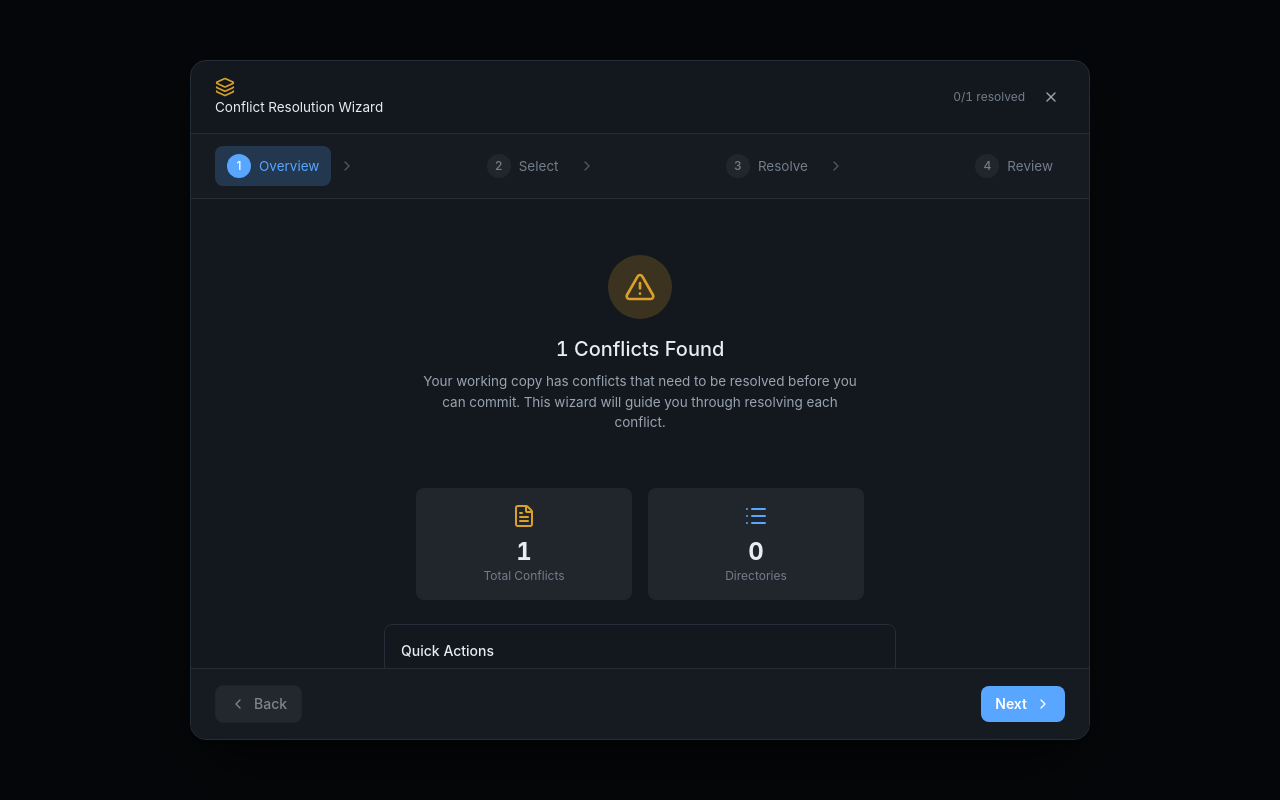
Test: conflict resolution workflows › opens conflicts detected from update or merge output in the wizard and resolves them
What coordinates should you click on to do the following:
click the text "resolve"
I would click on:
 (783, 166)
Its box is [758,156,808,176].
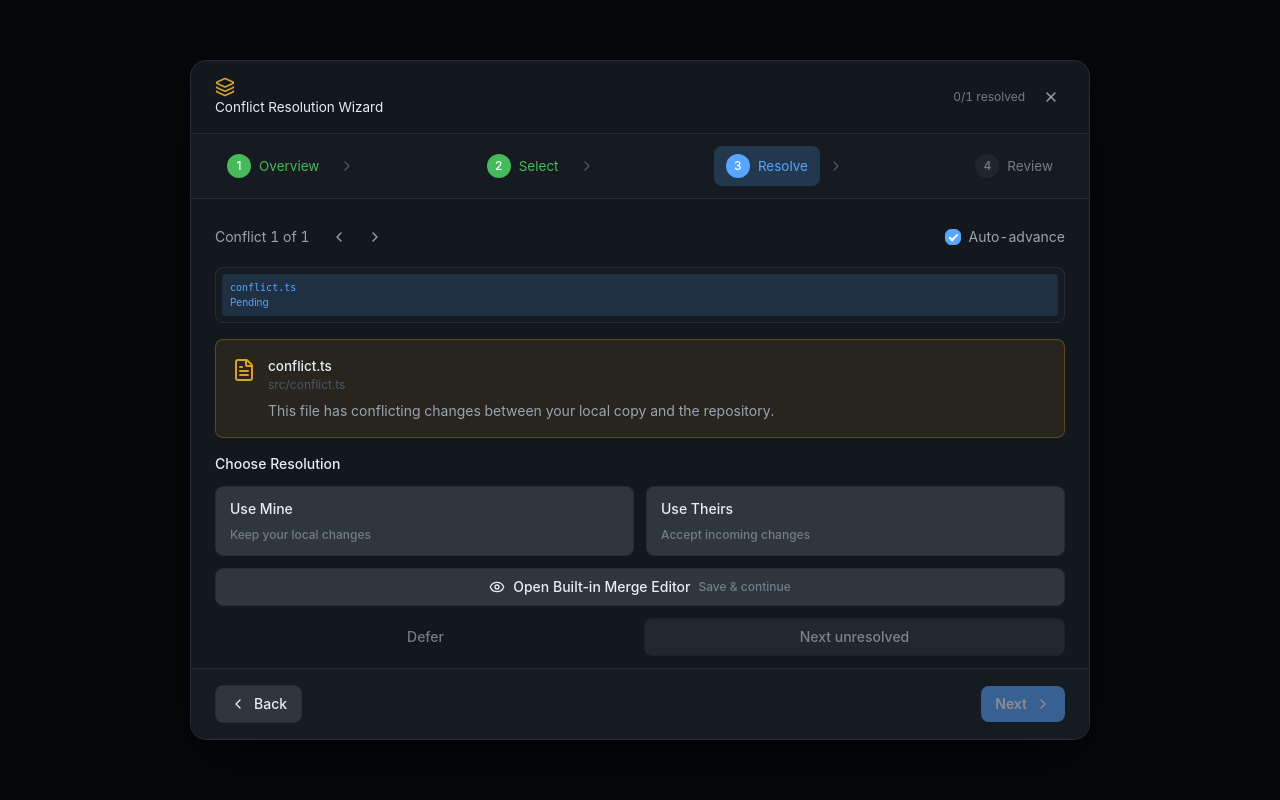
What coordinates should you click on to do the following:
click the button "Use Mine Keep your local changes"
I would click on:
 (261, 508)
Its box is [215,486,634,556].
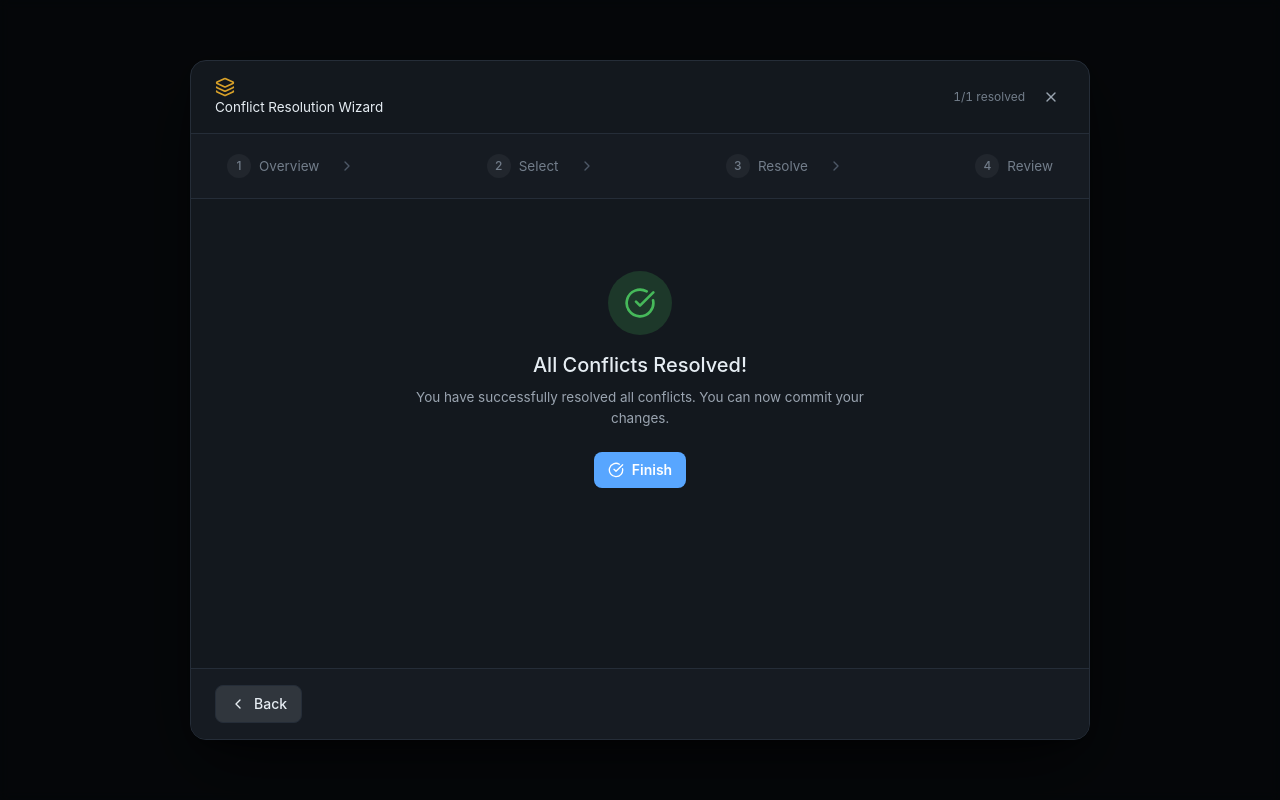
Expected: the text "successfully resolved all conflicts" is shown, [416,389,864,426]
